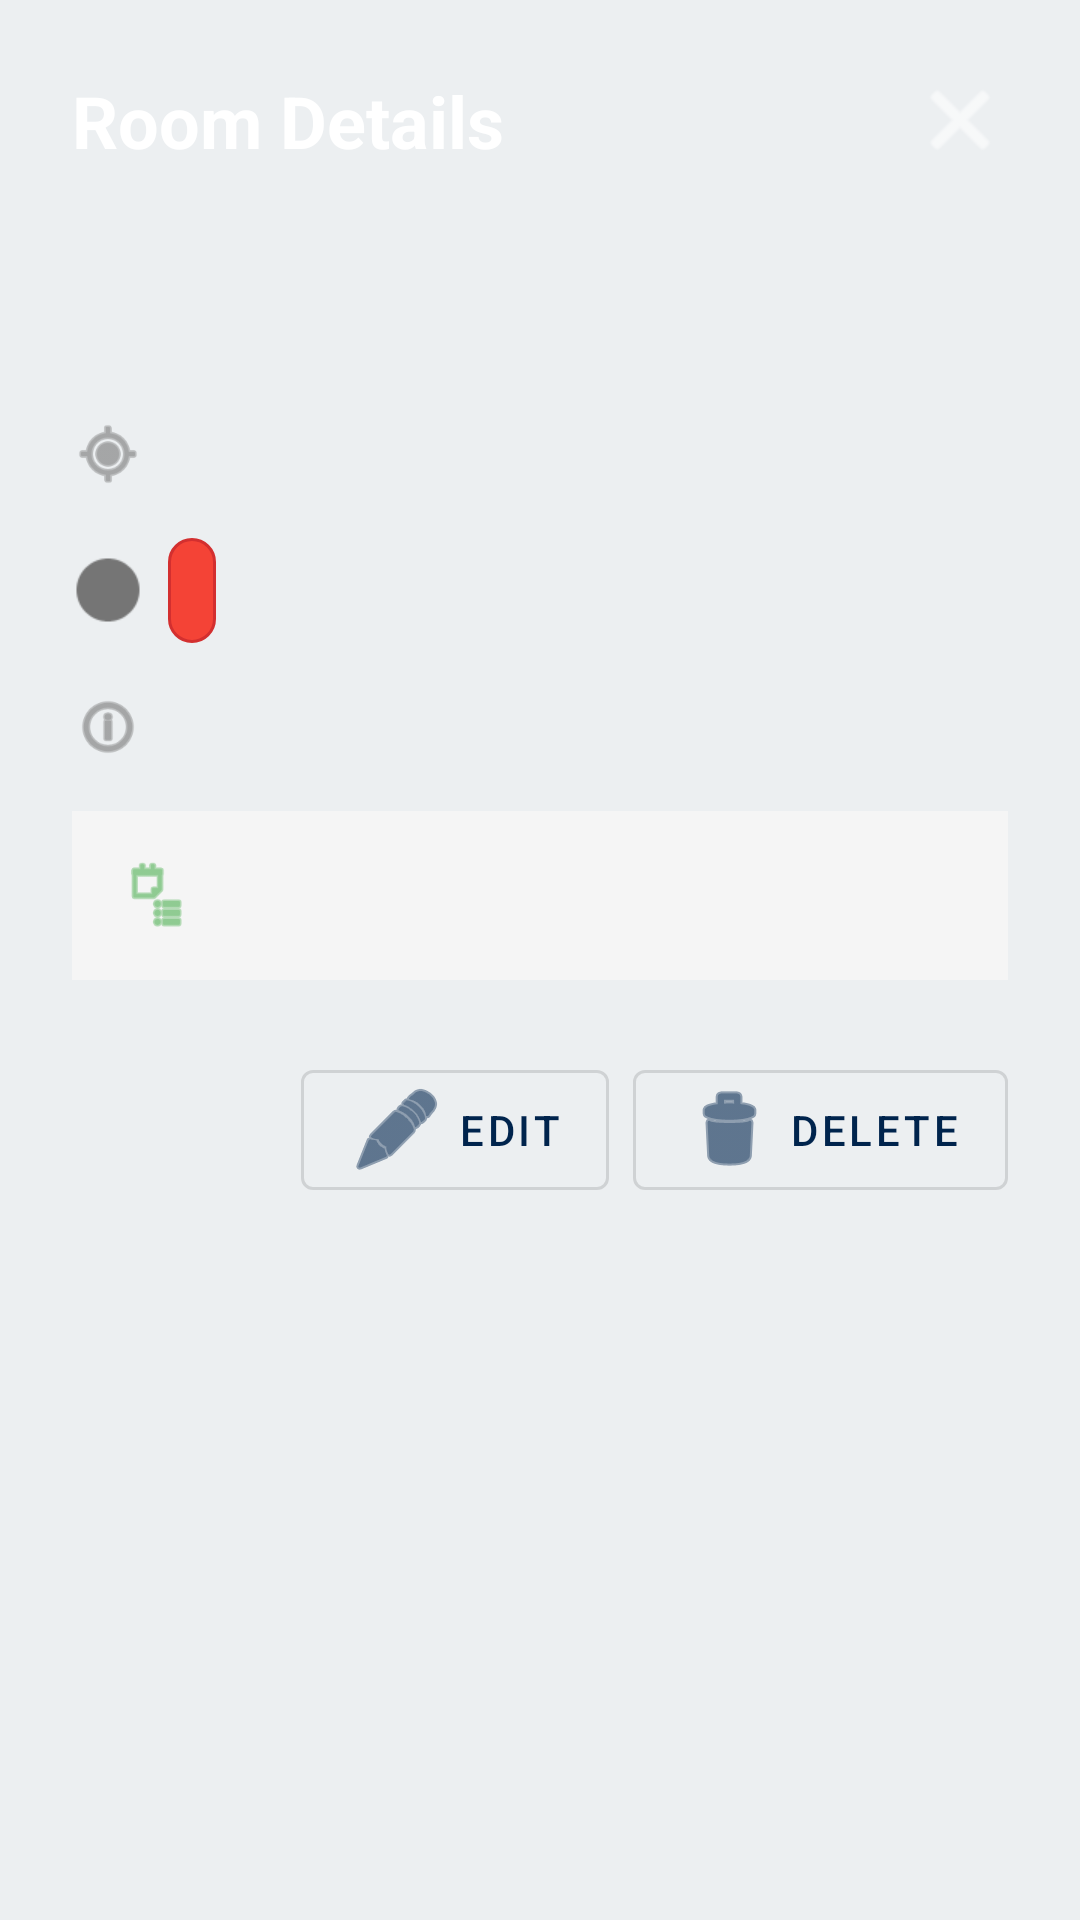

Screen size 1080w x 1920h. Icon name, then its center in pixels as (x=x, y=y):
agenda: (x=156, y=895)
info details: (x=108, y=727)
mylocation: (x=108, y=454)
